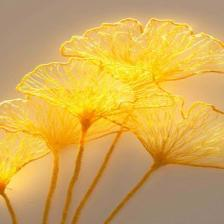yellow: (17, 59, 135, 192), (111, 101, 224, 219), (61, 18, 224, 82), (1, 95, 81, 224), (0, 130, 50, 224), (105, 64, 174, 109), (88, 119, 120, 141)
